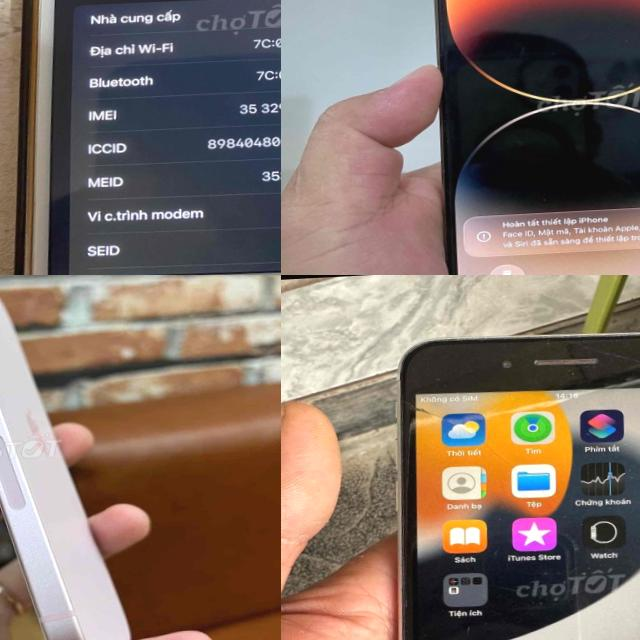gen_12_13: (0, 275, 151, 640)
gen_14: (414, 0, 640, 275)
gen_6: (19, 0, 281, 275)
gen_7_8: (366, 307, 640, 640)
physical_damage: (381, 382, 551, 511), (385, 564, 640, 640), (545, 320, 640, 438)
